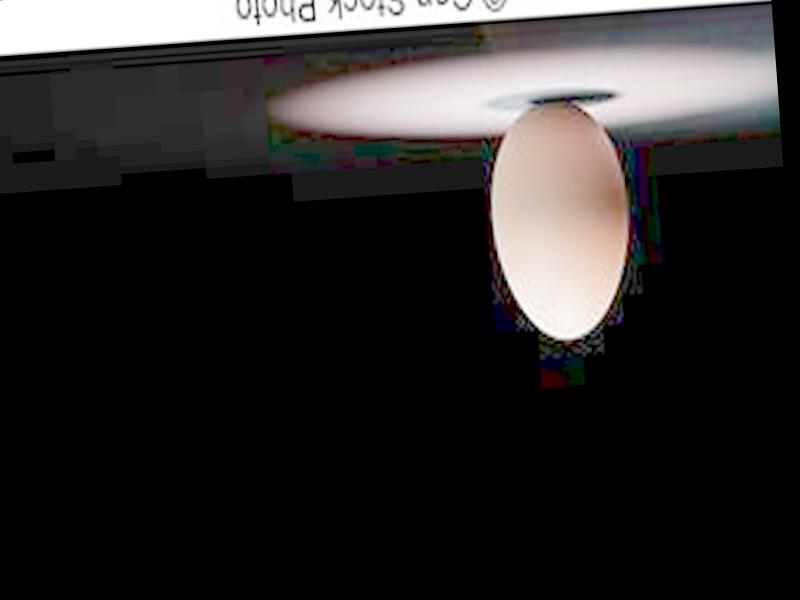Eggs: (484, 93, 639, 342)
